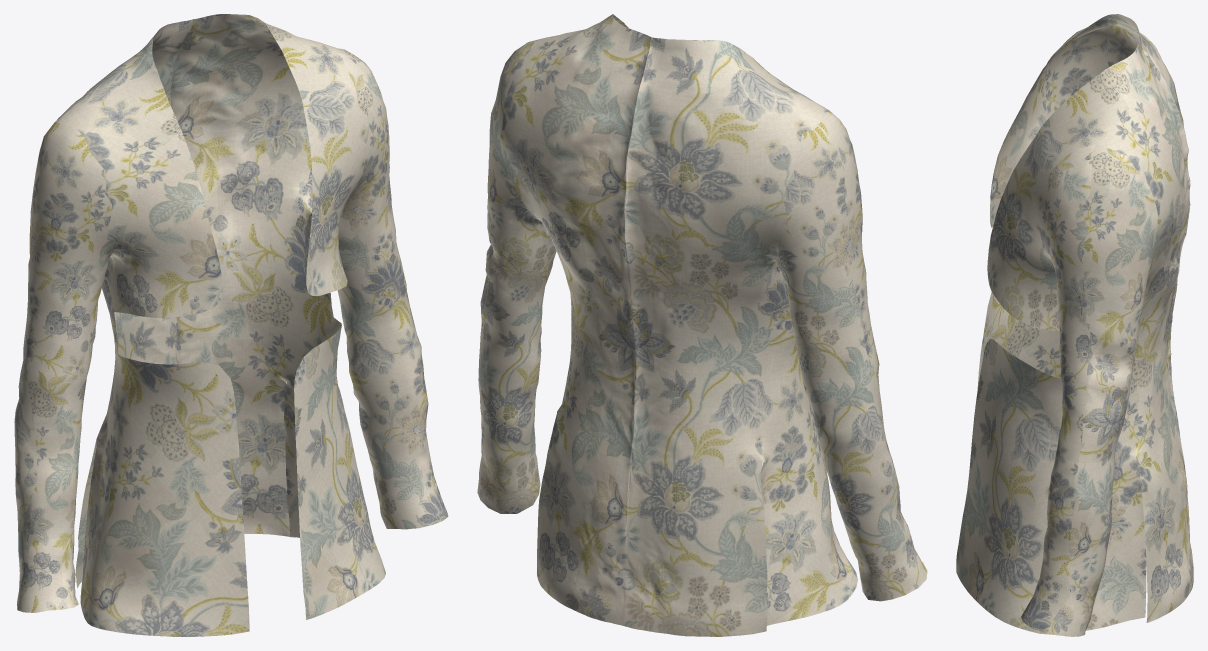
Rendered from full_lining_side_vents.glb.
3 views of the same model, side by side, from view 1: azimuth 30°, elevation 25°; view 2: azimuth 150°, elevation 25°; view 3: azimuth 270°, elevation 25° (orthographic). The views are drawn at different scales.
Visible parts, largest first — view 1: lining_side_vent.001; view 2: lining_side_vent.001; view 3: lining_side_vent.001.
Part boxes in pixels (left/top/right/bottom): lining_side_vent.001: left=14, top=14, right=448, bottom=636; lining_side_vent.001: left=477, top=14, right=927, bottom=636; lining_side_vent.001: left=956, top=14, right=1193, bottom=636.
Size of the model in its own units: 60.12 by 74.66 by 29.93.
1 material, 1 textured.
